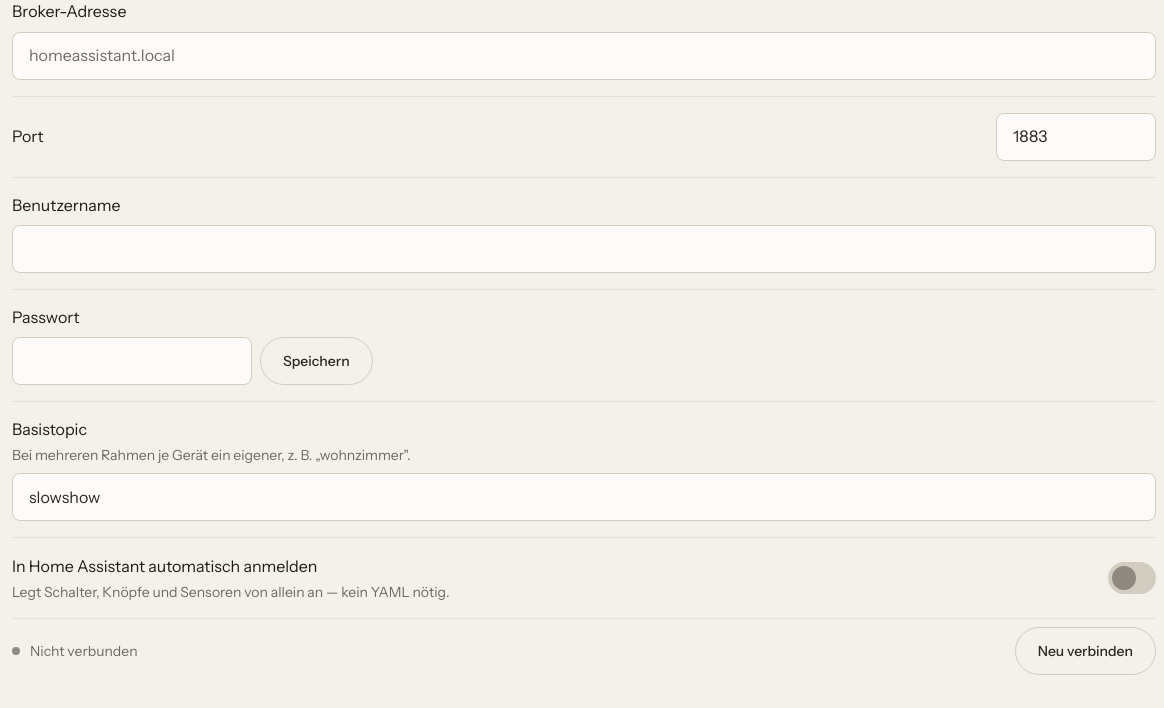
Test: Rückmeldungen › meldet das gespeicherte MQTT-Passwort beim Passwortfeld
(page scrolled)
In the password field: (132, 361) [12,337,252,385], type "geheim"
(page scrolled)
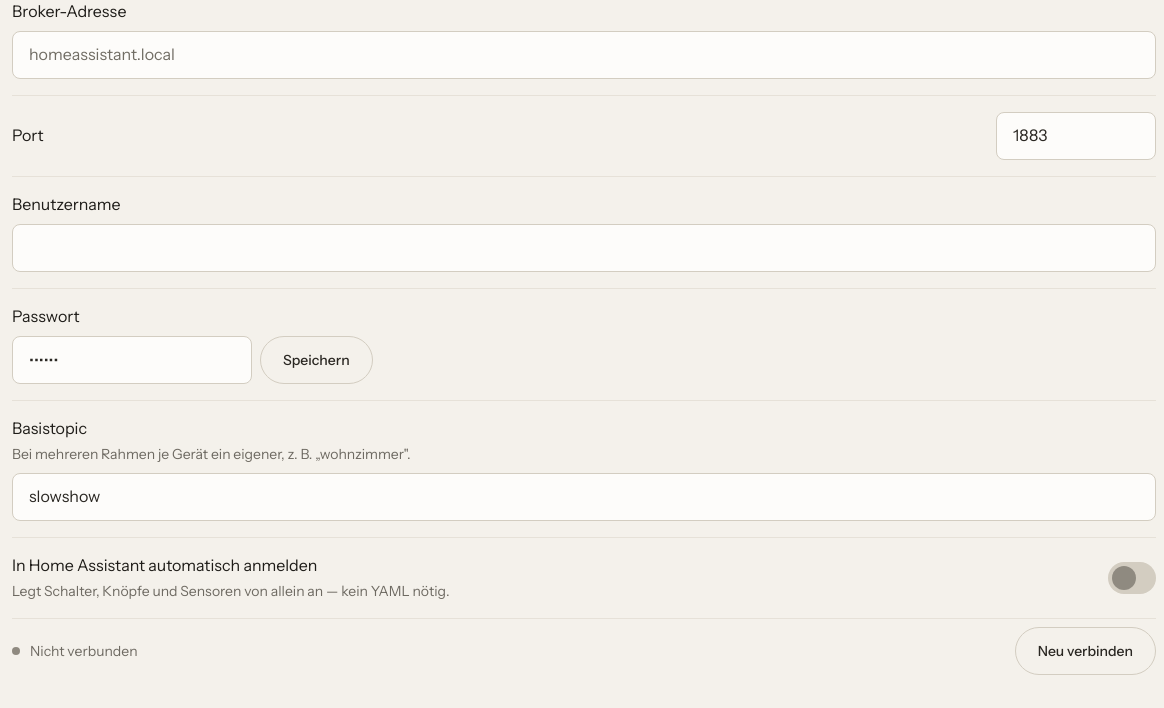
Click the button "Speichern": (316, 360) [260,336,373,384]
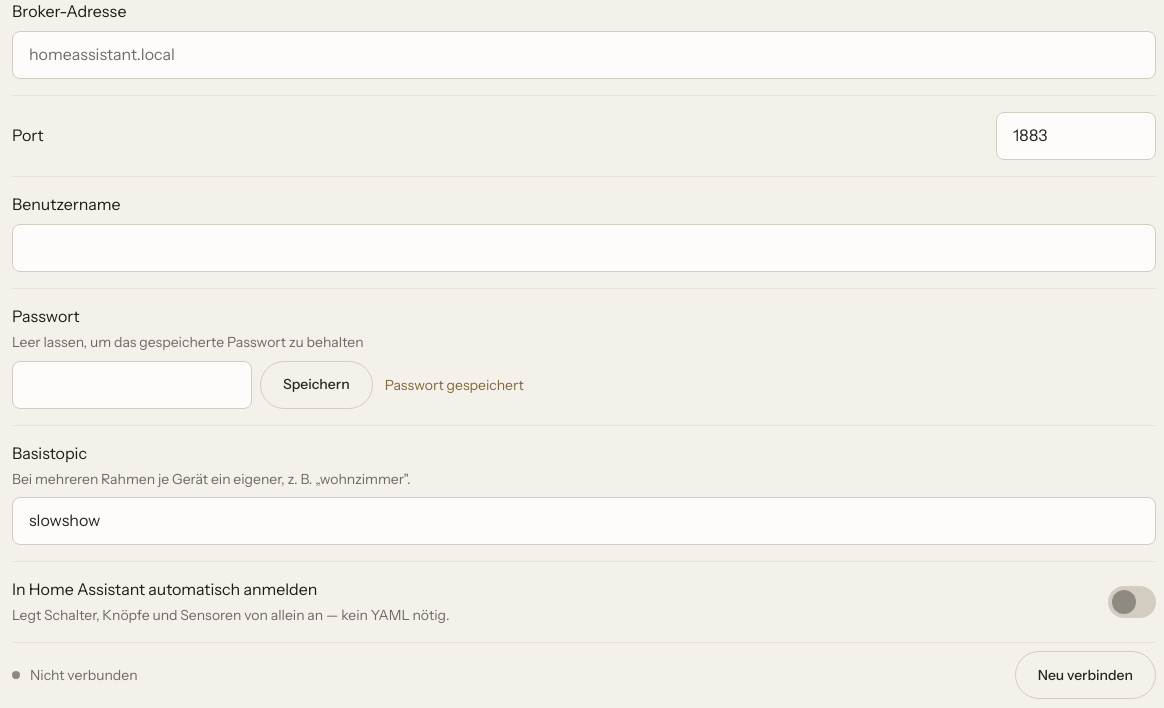
Expected: the element with class "buttons" does not show "Passwort gespeichert"
Now the element that starts with "Passwort" shows "Passwort gespeichert", box [385,376,524,394]
